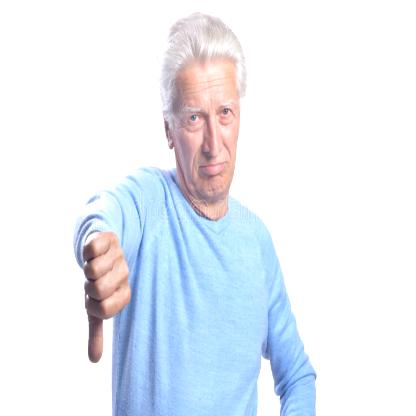Thumbs Down: (79, 228, 134, 362)
